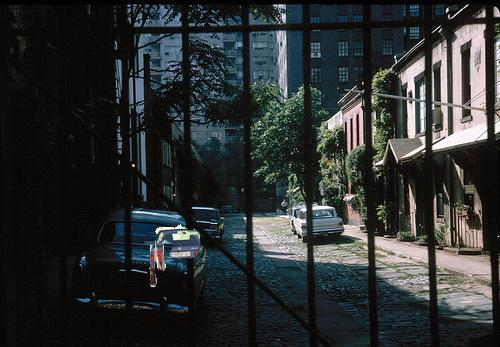tampered: (150, 225, 200, 287)
